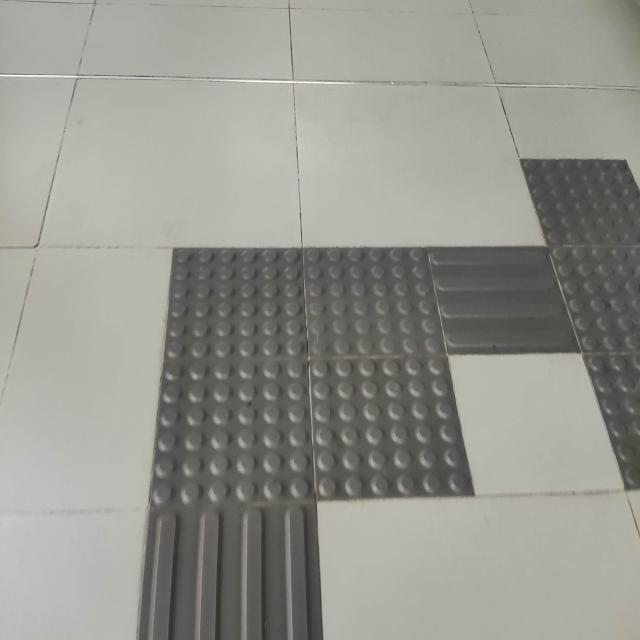kanan: (105, 207, 579, 587)
